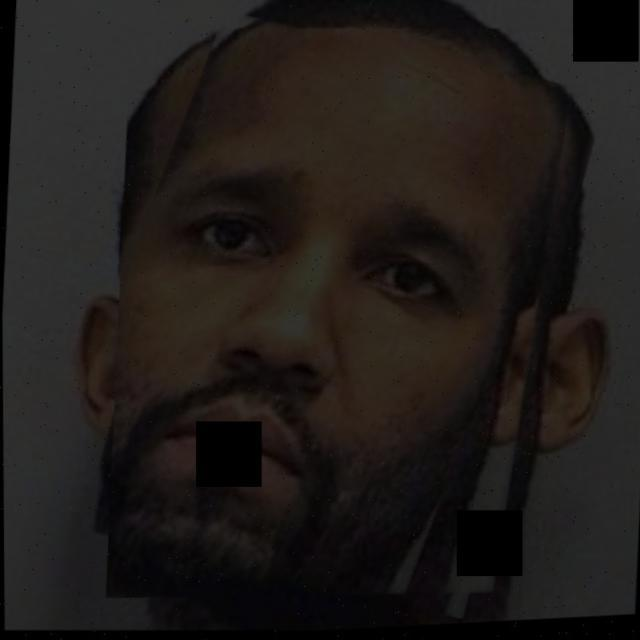Sad: (87, 96, 488, 577)
